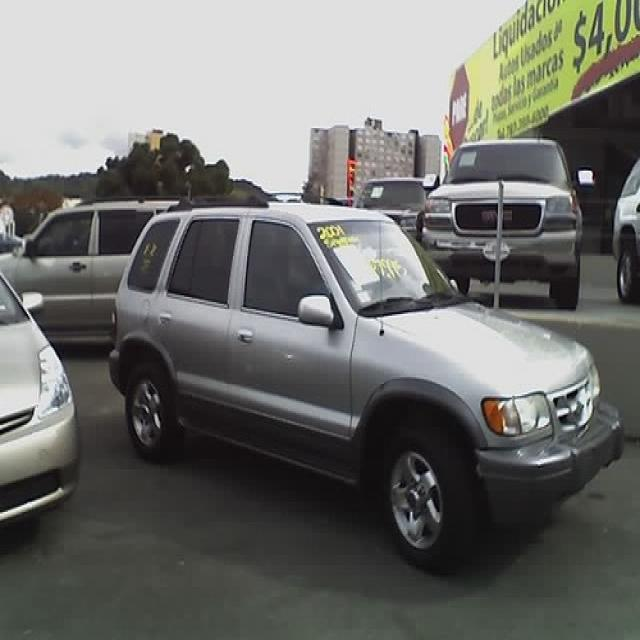car: (110, 204, 627, 575), (418, 139, 595, 315), (1, 199, 192, 346), (1, 257, 78, 528), (357, 177, 431, 236), (613, 151, 640, 307)
